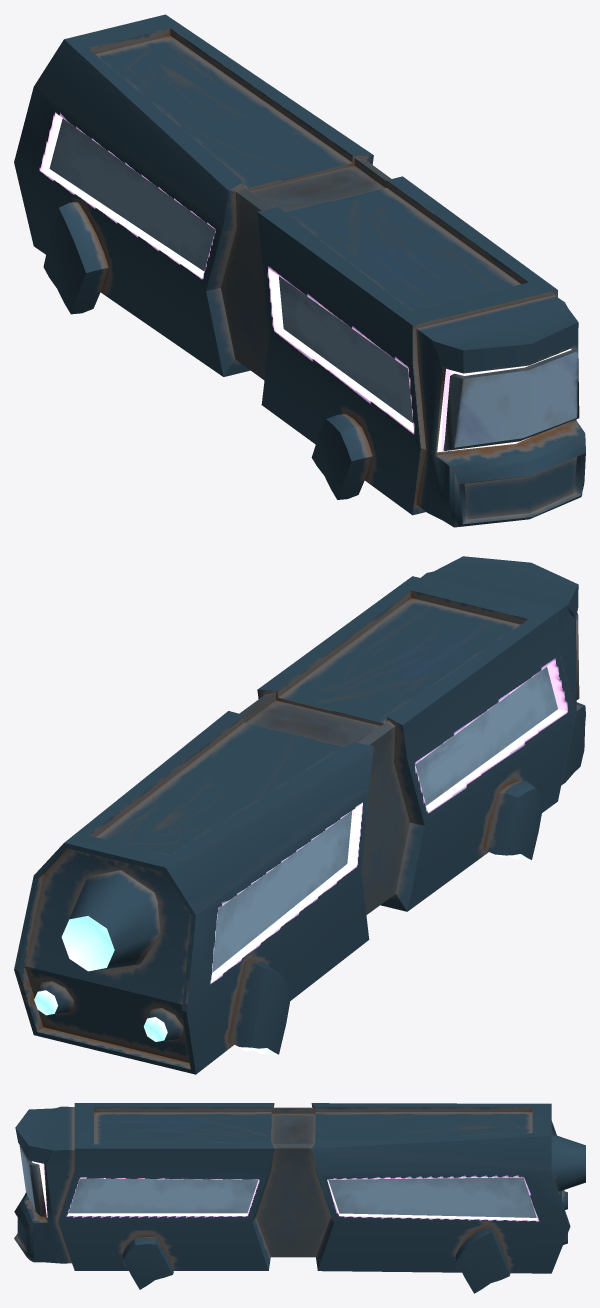
The model's file is FlyingBus.fbx.
3 renders of one model, top to bottom at view 1: azimuth 30°, elevation 25°; view 2: azimuth 150°, elevation 25°; view 3: azimuth 270°, elevation 25°, orthographic. The views are drawn at different scales.
Parts seen in each view (by area): view 1: FlyingBus; view 2: FlyingBus; view 3: FlyingBus.
Part boxes in pixels (<box>): FlyingBus: <box>14,14,585,527</box>; FlyingBus: <box>14,556,585,1074</box>; FlyingBus: <box>14,1103,585,1293</box>.
Size of the model in its own units: 996 by 967 by 3540.
